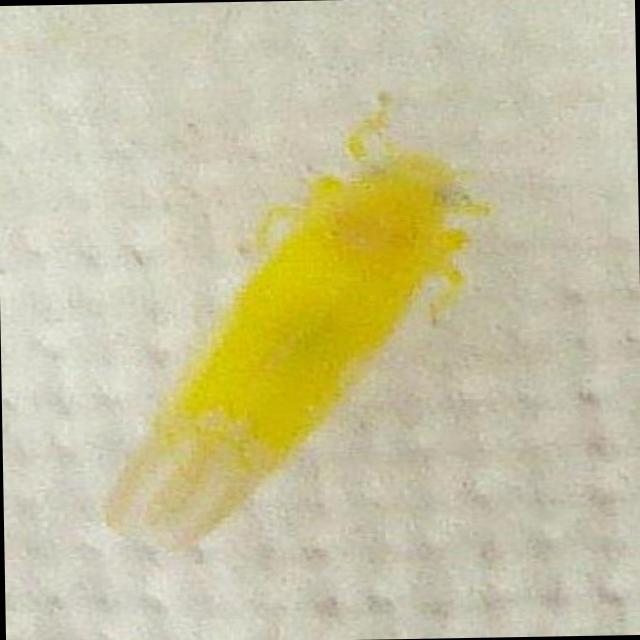green-leafhopper: (109, 90, 491, 547)
